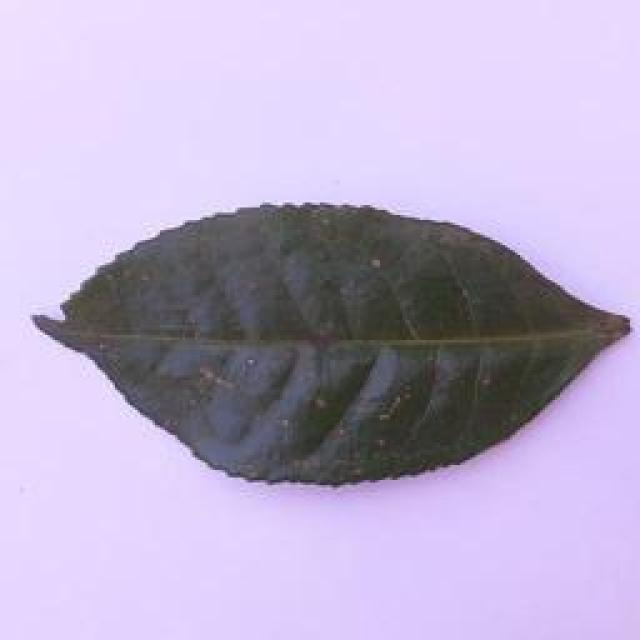Algal Leaf Spot: (37, 189, 638, 496)
